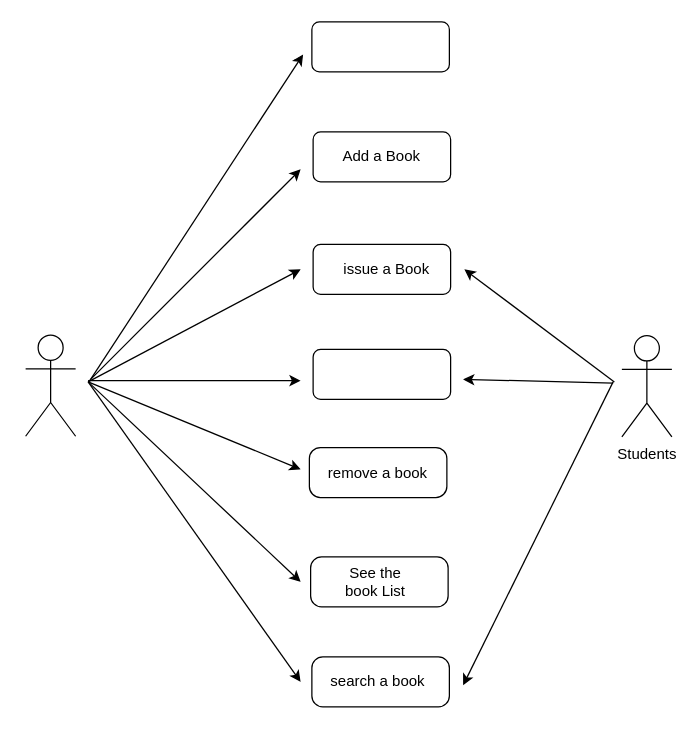
This 698x729 diagram has some shape labels left out. Here are the shapes that lost their labels. From the top down, the centre of each, then its label:
At [380,46]: "login".
At [50,385]: "Librarian".
At [381,373]: "return a book".
